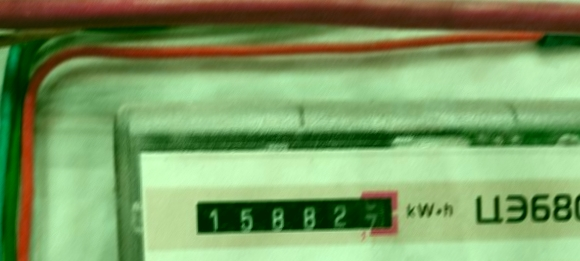1: (207, 206, 219, 232)
2: (331, 203, 347, 228)
5: (238, 206, 252, 232)
7: (362, 211, 377, 229)
8: (269, 205, 285, 231), (301, 205, 316, 230)
screen: (186, 186, 406, 247)
